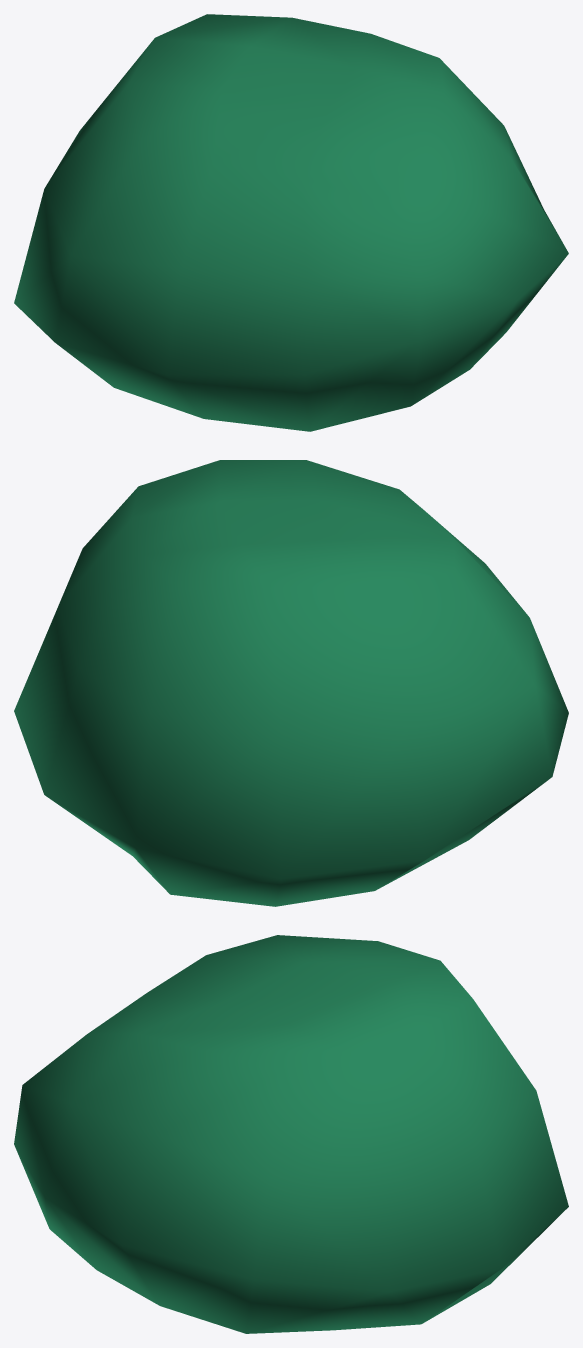
Rendered from Tree_Top_A_01_LOD2.gltf.
The picture shows the model from 3 angles, top to bottom: view 1: azimuth 30°, elevation 25°; view 2: azimuth 150°, elevation 25°; view 3: azimuth 270°, elevation 25°; orthographic projection. The views are drawn at different scales.
Parts seen in each view (by area): view 1: Tree_Top_A_01_LOD2_Cylinder.736; view 2: Tree_Top_A_01_LOD2_Cylinder.736; view 3: Tree_Top_A_01_LOD2_Cylinder.736.
Boxes of the visible parts, x1,y1,x2,y2 form: Tree_Top_A_01_LOD2_Cylinder.736: (14, 14, 568, 431); Tree_Top_A_01_LOD2_Cylinder.736: (14, 460, 568, 906); Tree_Top_A_01_LOD2_Cylinder.736: (14, 935, 568, 1333).
Bounding box in the file's own units: 7.41 × 4.42 × 7.42.
1 material, 1 textured.
